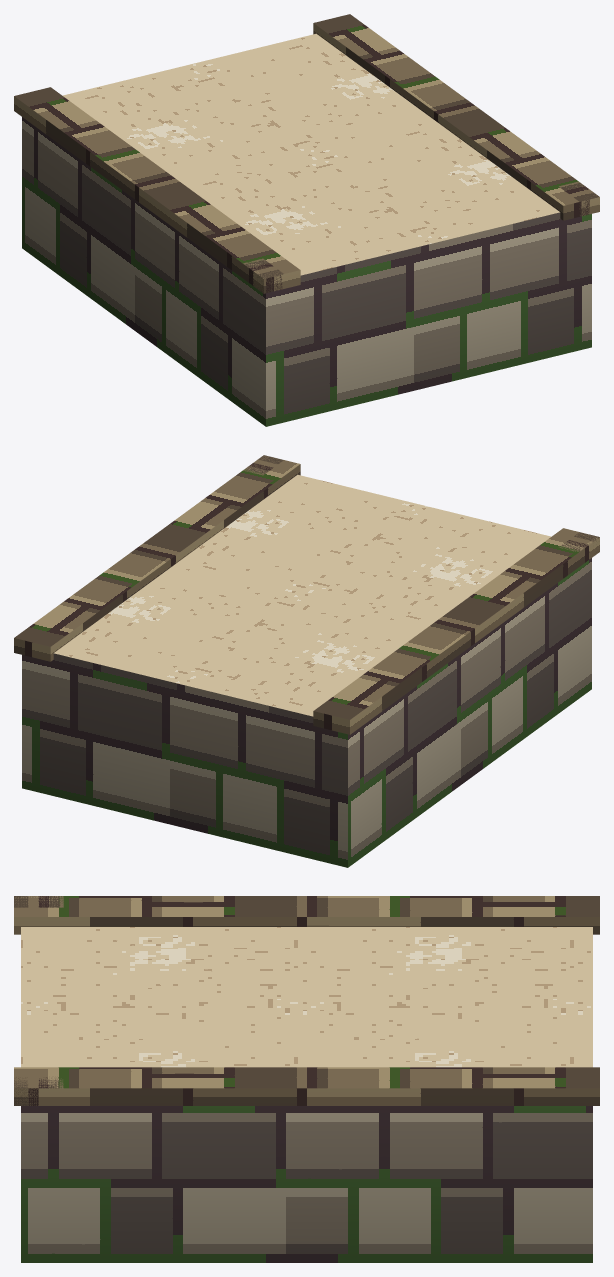
Rendered from scene_east_gallery.glb.
3 views of the same model, one above another, from view 1: azimuth 30°, elevation 25°; view 2: azimuth 150°, elevation 25°; view 3: azimuth 270°, elevation 25° (orthographic). The views are drawn at different scales.
Visible parts, largest first — view 1: scene_east_gallery; view 2: scene_east_gallery; view 3: scene_east_gallery.
Part boxes in pixels (x1,y1,x2,y2): scene_east_gallery: (14, 14, 599, 426); scene_east_gallery: (14, 455, 599, 867); scene_east_gallery: (14, 896, 599, 1262).
Bounding box in the file's own units: 3.3 × 1.42 × 4.25.
2 materials, 2 textured.
